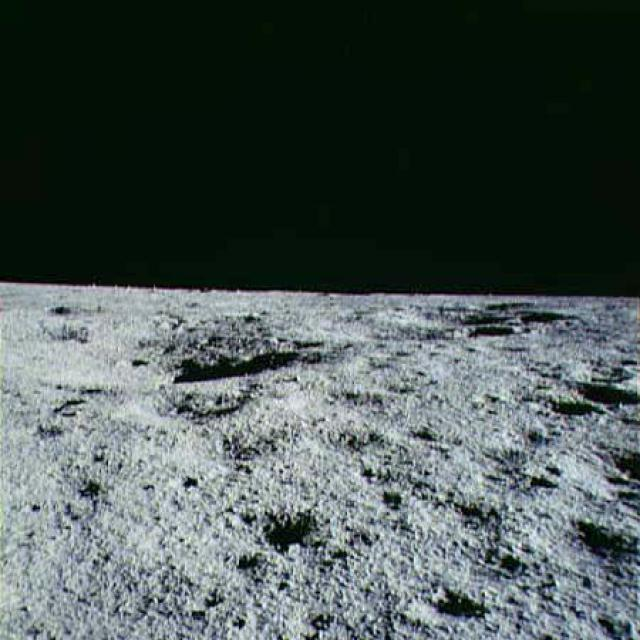crater: (32, 318, 322, 399), (543, 500, 639, 595), (241, 497, 354, 558), (406, 567, 492, 637), (379, 292, 524, 326), (525, 387, 613, 436), (562, 367, 638, 414), (590, 434, 639, 496), (448, 325, 514, 342)
